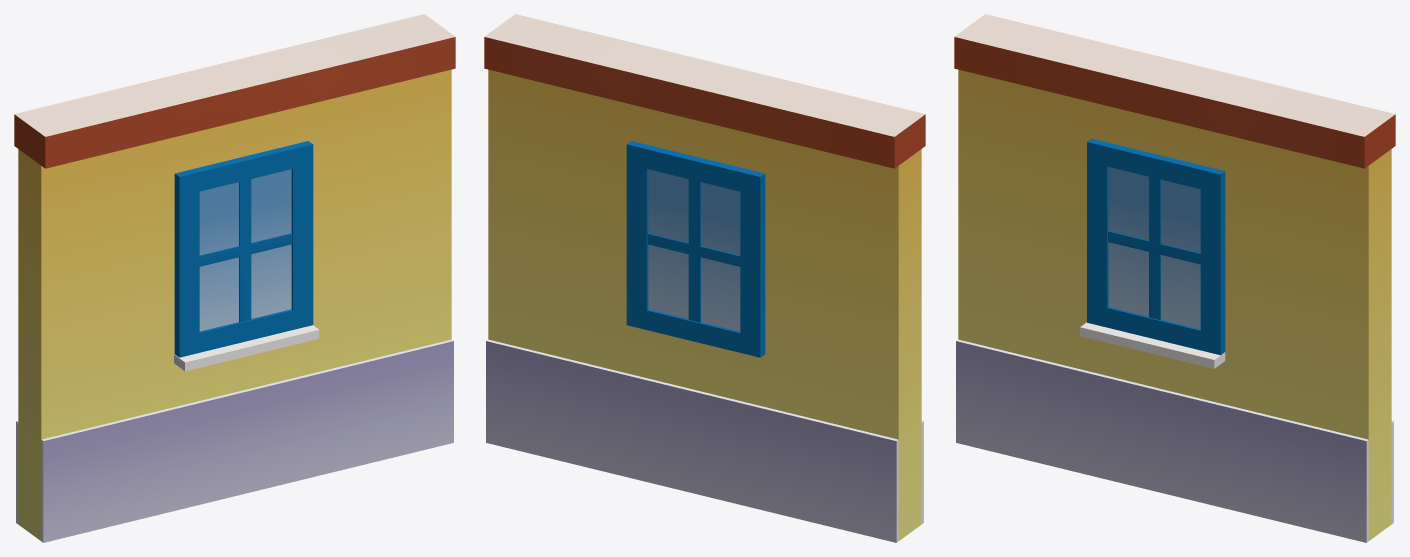
The model's file is M1_Wall_01_3.fbx.
3 views of the same model, side by side, from view 1: azimuth 30°, elevation 25°; view 2: azimuth 150°, elevation 25°; view 3: azimuth 330°, elevation 25° (orthographic).
Visible parts, largest first — view 1: M1_Wall_01_3; view 2: M1_Wall_01_3; view 3: M1_Wall_01_3.
Boxes of the visible parts, bbox=[...] form: M1_Wall_01_3: bbox=[14, 14, 455, 542]; M1_Wall_01_3: bbox=[484, 14, 925, 542]; M1_Wall_01_3: bbox=[954, 14, 1395, 542].
Size of the model in its own units: 400 by 380 by 65.72.
